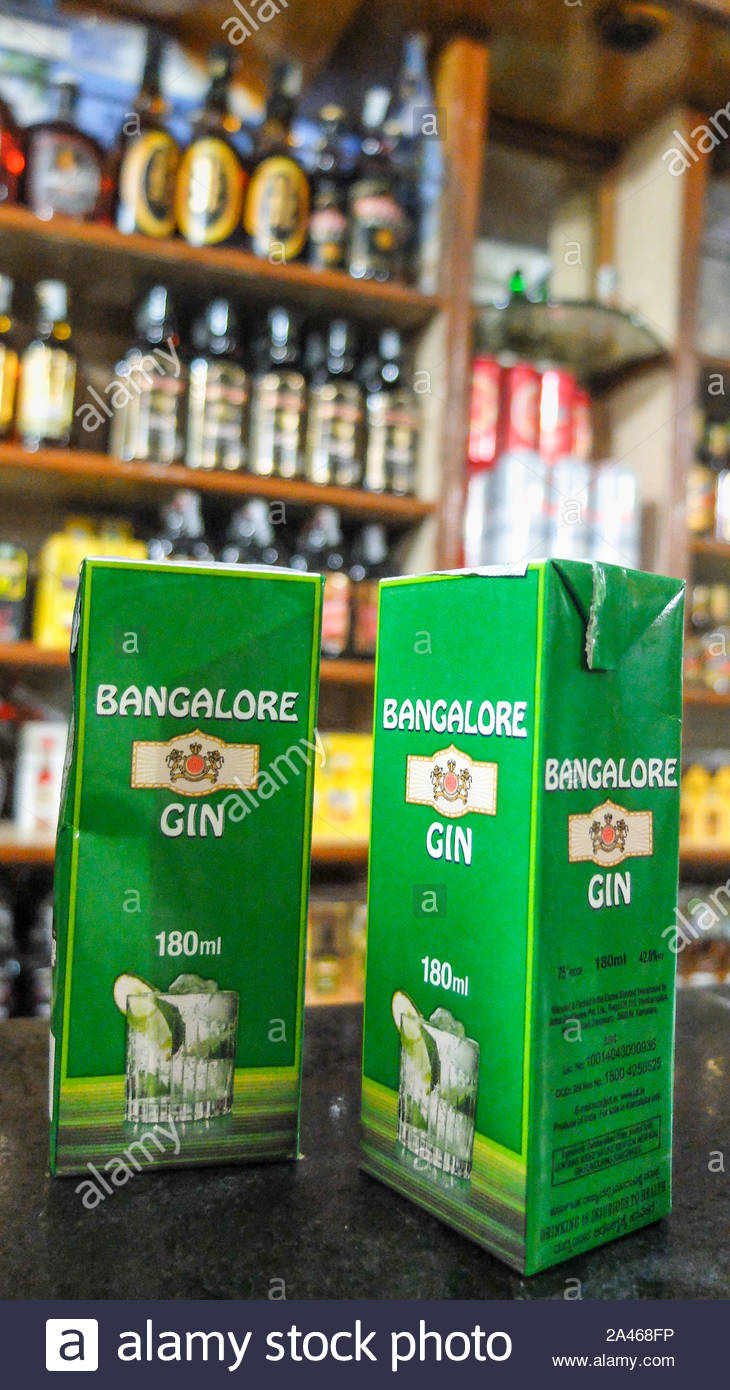carton: (340, 550, 695, 1287), (40, 550, 327, 1191)
